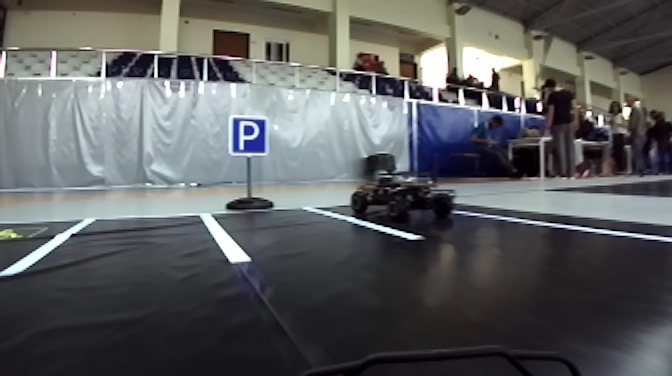park: (227, 114, 272, 159)
